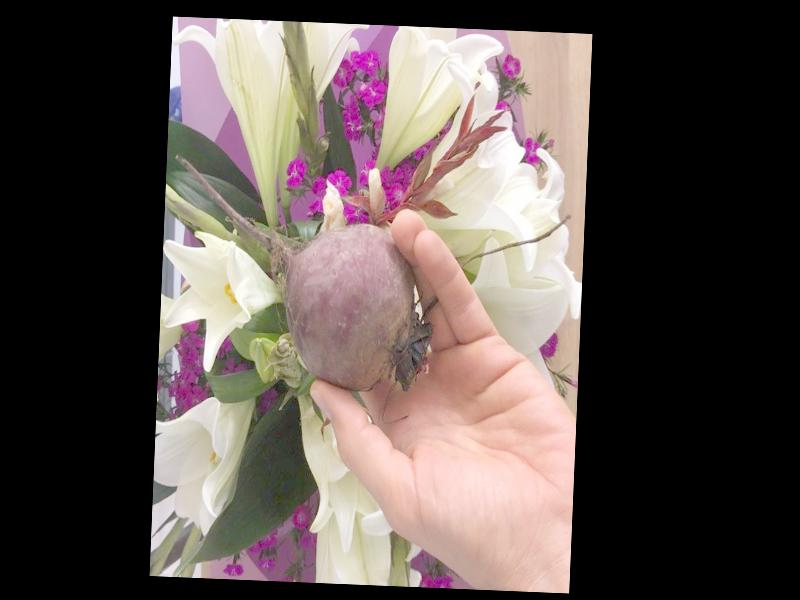Beet: (168, 153, 438, 393)
